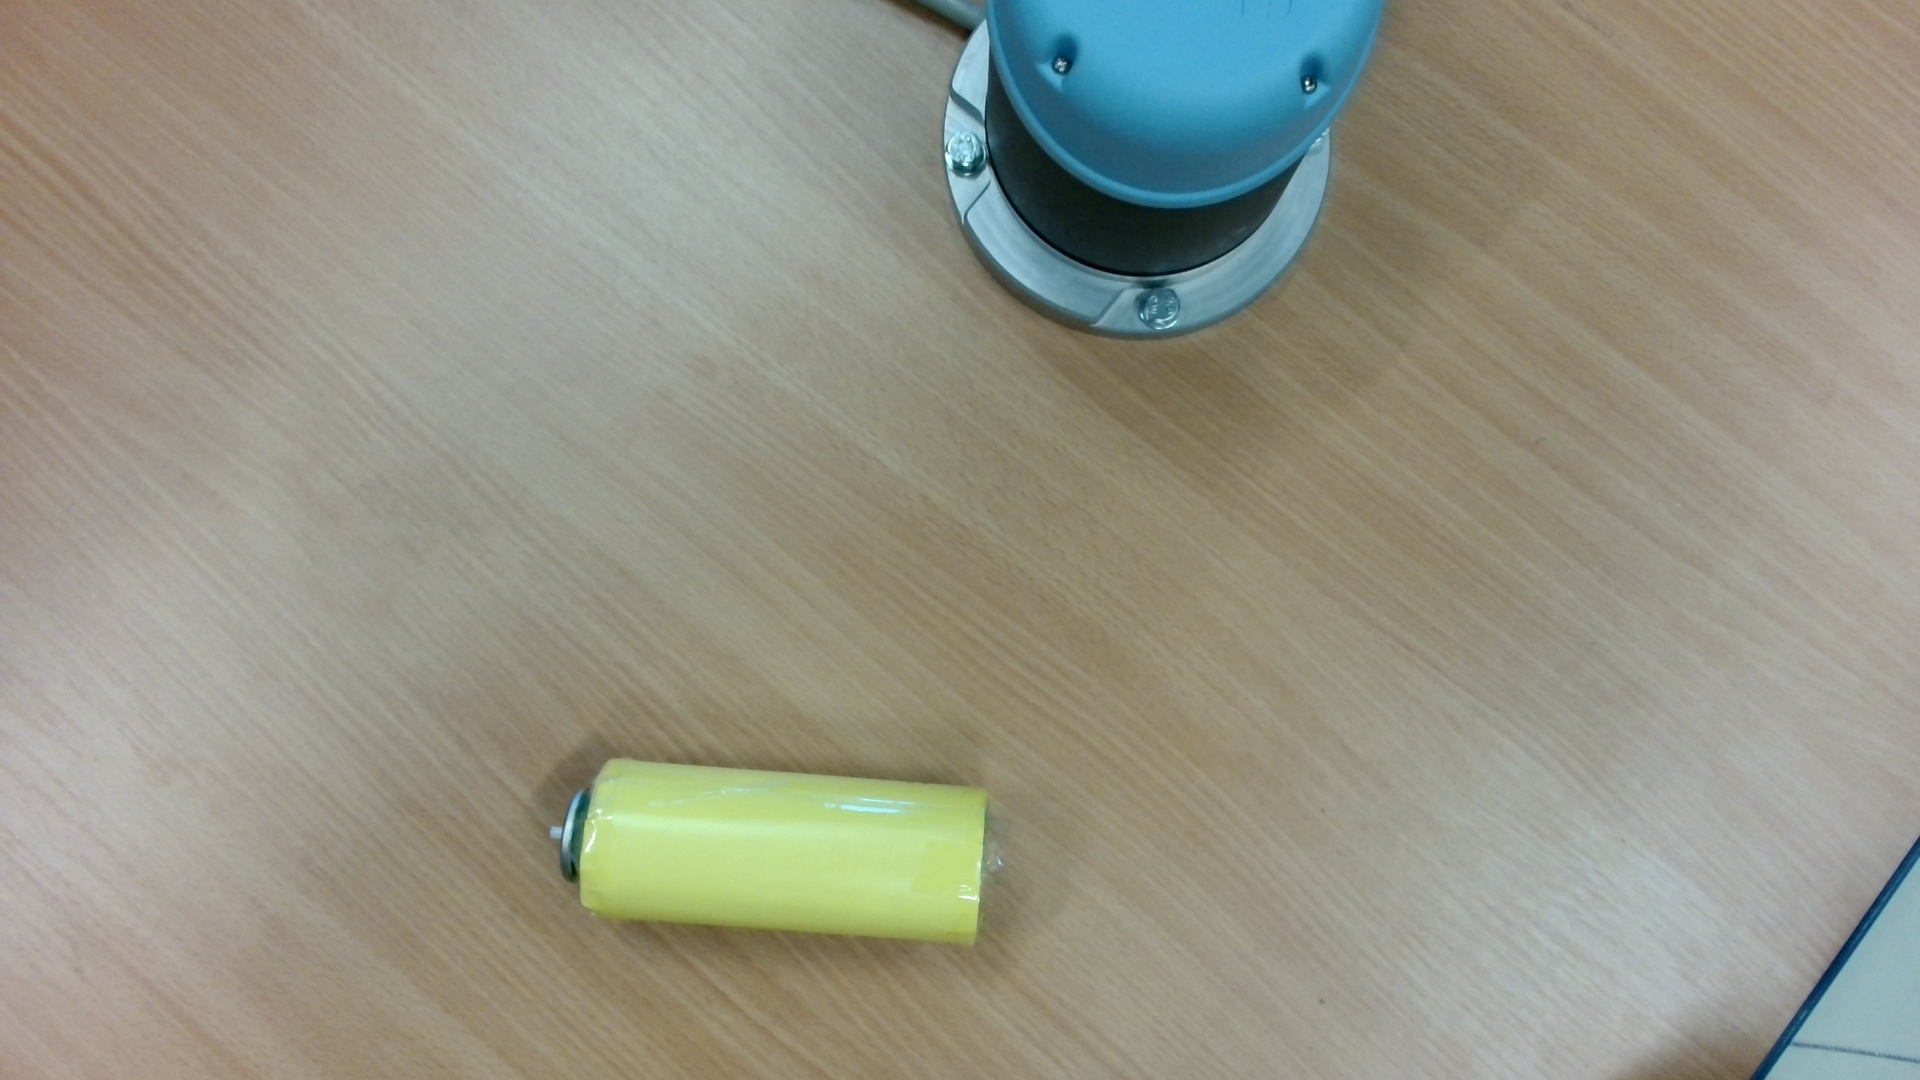Cylinder: (535, 746, 1023, 968)
